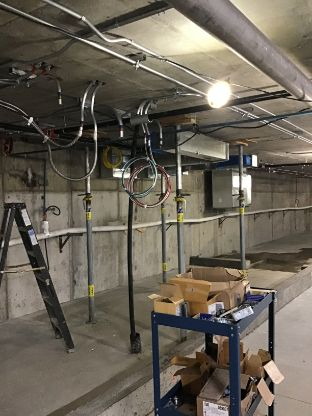Duct: (203, 149, 261, 212), (159, 122, 235, 167)
